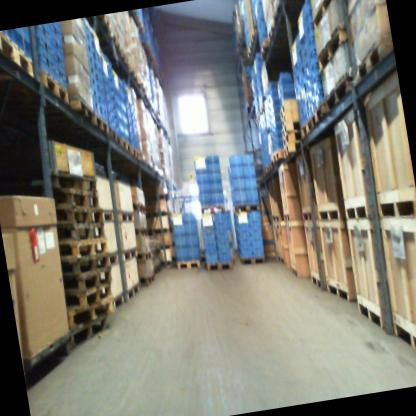pallet: (351, 33, 398, 84), (0, 27, 35, 84), (312, 24, 352, 73), (320, 70, 361, 115), (65, 297, 117, 332), (50, 164, 99, 199), (62, 277, 115, 309), (66, 316, 112, 351), (391, 308, 416, 372), (61, 264, 114, 293), (376, 188, 416, 225), (53, 182, 100, 213), (56, 222, 107, 248), (59, 251, 111, 276), (355, 290, 384, 334), (54, 205, 105, 230), (40, 67, 70, 109), (58, 235, 109, 259), (70, 91, 98, 129), (306, 0, 346, 26), (323, 272, 352, 306), (343, 197, 369, 222), (307, 101, 328, 129), (316, 204, 341, 225), (239, 250, 267, 268), (280, 128, 303, 148), (279, 118, 301, 138), (94, 114, 111, 139), (205, 259, 234, 273), (282, 141, 303, 159), (233, 201, 260, 214), (176, 258, 202, 271), (265, 20, 277, 47), (147, 226, 173, 238), (121, 246, 138, 264), (200, 203, 225, 215), (298, 119, 313, 139), (124, 282, 141, 299), (289, 260, 302, 282), (257, 38, 270, 60), (119, 209, 135, 226), (309, 272, 323, 291), (139, 272, 155, 287), (270, 147, 285, 163), (274, 250, 287, 268), (102, 205, 115, 223), (113, 292, 125, 311), (132, 201, 147, 216), (109, 128, 120, 147), (108, 250, 119, 268), (120, 135, 131, 153), (277, 100, 286, 121), (134, 226, 149, 238), (136, 251, 152, 262), (300, 208, 312, 222), (147, 210, 168, 218), (131, 145, 141, 161), (247, 30, 257, 46), (149, 193, 166, 201), (279, 113, 288, 128), (245, 44, 254, 59), (254, 112, 262, 123), (283, 211, 290, 223), (271, 214, 280, 223), (164, 241, 174, 249), (265, 162, 272, 173), (261, 167, 267, 177), (165, 259, 172, 266)
small_load_carrier: (273, 77, 297, 101), (169, 216, 186, 237), (232, 216, 252, 231), (240, 148, 255, 167), (227, 163, 244, 179), (244, 186, 259, 204), (227, 153, 243, 169), (241, 162, 257, 178), (237, 243, 254, 258), (188, 245, 203, 262), (230, 176, 246, 191), (210, 190, 225, 205), (183, 221, 198, 236), (175, 245, 190, 260), (198, 191, 212, 207), (243, 174, 257, 190), (233, 189, 247, 205), (236, 233, 252, 247), (217, 248, 233, 262), (208, 171, 222, 186), (214, 227, 229, 241), (216, 238, 232, 251), (200, 215, 213, 231), (209, 181, 223, 195), (205, 250, 219, 264), (233, 225, 250, 236), (202, 239, 216, 252), (186, 234, 200, 247), (251, 245, 266, 257), (212, 217, 227, 229), (173, 235, 188, 247), (195, 162, 209, 174), (245, 206, 259, 218), (247, 216, 261, 228), (211, 207, 225, 219), (181, 211, 195, 223), (207, 161, 220, 173), (250, 235, 263, 247), (196, 182, 210, 193), (196, 173, 209, 184), (202, 229, 215, 240), (249, 226, 261, 237), (206, 153, 219, 163)
